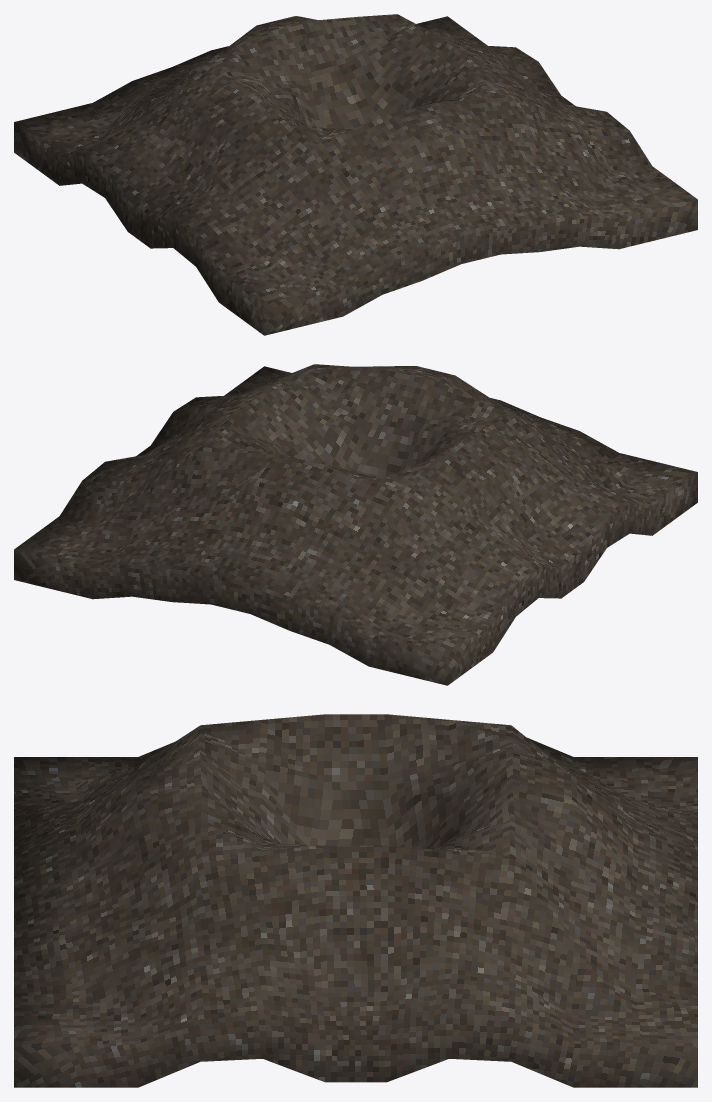
Rendered from Hole.glb.
3 views of the same model, one above another, from view 1: azimuth 30°, elevation 25°; view 2: azimuth 150°, elevation 25°; view 3: azimuth 270°, elevation 25° (orthographic). The views are drawn at different scales.
Visible parts, largest first — view 1: Plane; view 2: Plane; view 3: Plane.
Part boxes in pixels (x1,y1,x2,y2): Plane: (14,14,697,335); Plane: (14,364,697,685); Plane: (14,714,697,1087).
Size of the model in its own units: 1 by 0.2746 by 1.
Materials: 1 (1 with a texture image).
